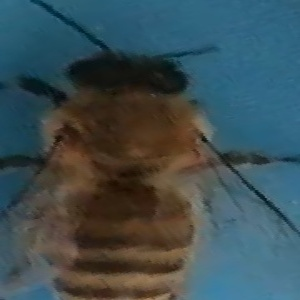bee: (15, 50, 275, 300)
